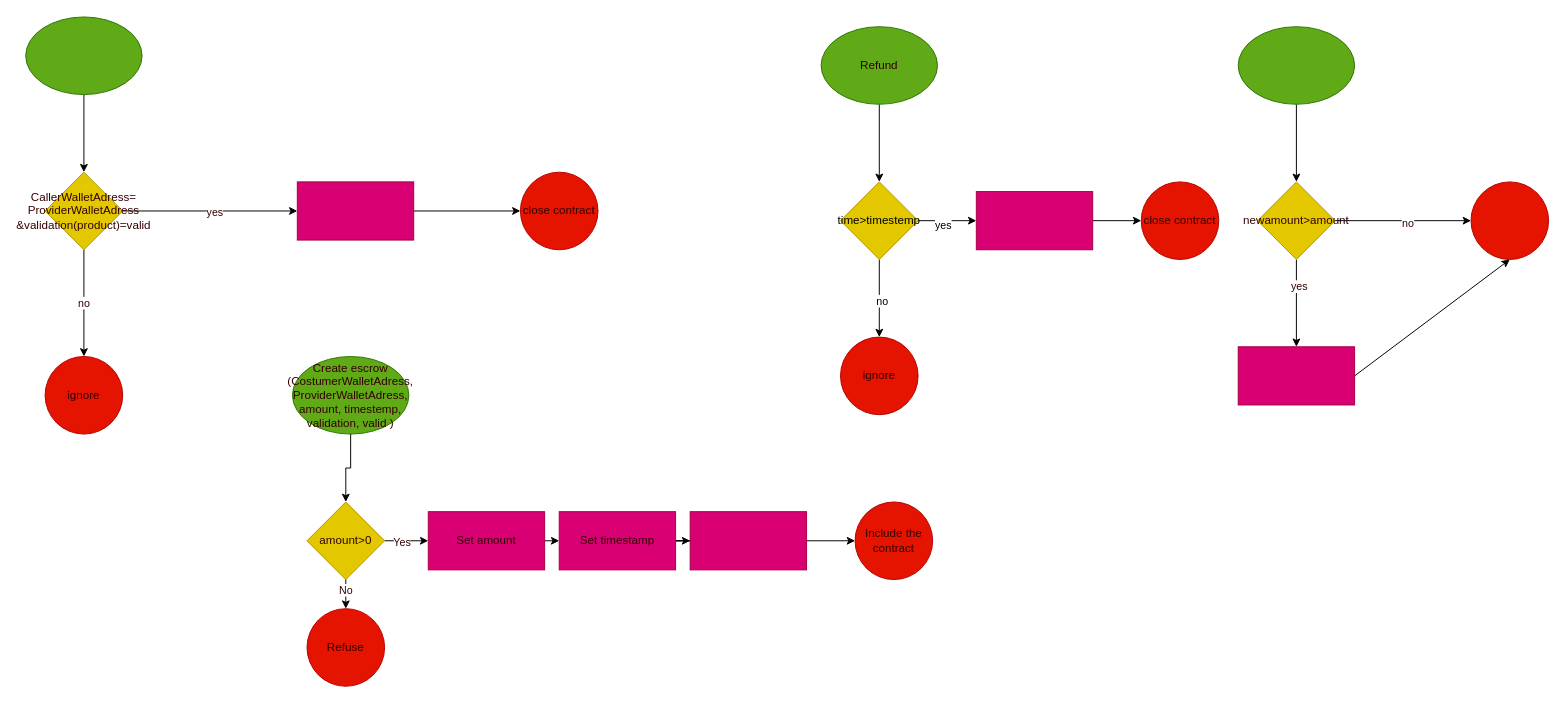
This 1566x703 diagram has some shape labels left out. The box of each missing label's shape, as (x1, y1, x2, y2) in pixels:
Call Escrow ( product): (25, 16, 142, 95)
CostumerWalletAdress, ProviderWalletAdress: (689, 511, 807, 570)
Increase Amount (newamount): (1237, 26, 1355, 104)
send amount to costumerWalletAdress: (975, 191, 1093, 250)
send amount to pkProvider: (296, 181, 414, 240)
set amout=newamount: (1237, 346, 1355, 405)
stopp: (1470, 181, 1549, 259)
